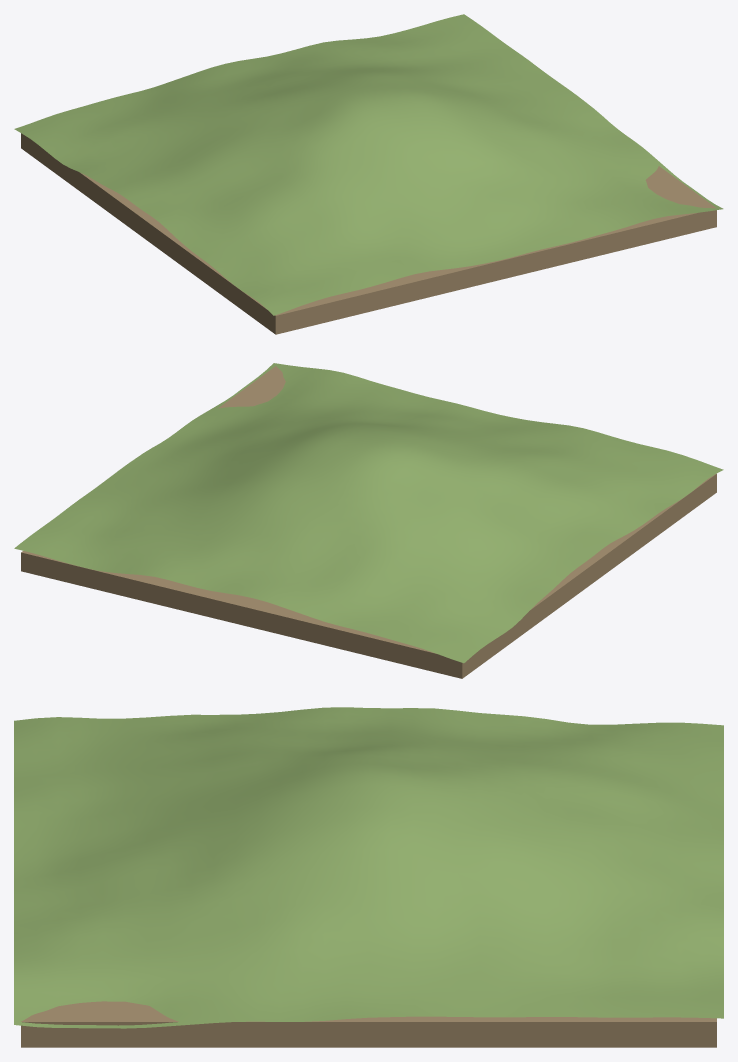
Rendered from terreno_colina_modulo.glb.
3 views of the same model, one above another, from view 1: azimuth 30°, elevation 25°; view 2: azimuth 150°, elevation 25°; view 3: azimuth 270°, elevation 25° (orthographic). The views are drawn at different scales.
Parts seen in each view (by area): view 1: TerrenoColinaModulo; view 2: TerrenoColinaModulo; view 3: TerrenoColinaModulo.
Part boxes in pixels (x1,y1,x2,y2): TerrenoColinaModulo: [14, 14, 723, 334]; TerrenoColinaModulo: [14, 363, 723, 678]; TerrenoColinaModulo: [14, 707, 723, 1047].
Size of the model in its own units: 20 by 3.6 by 20.
